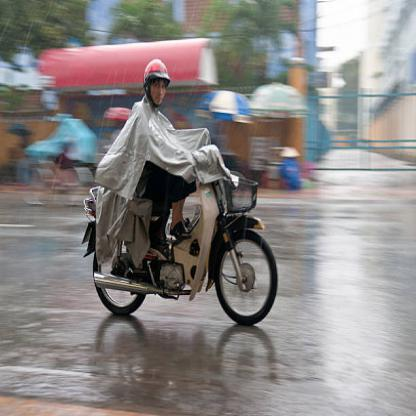Motorcycle: (79, 146, 280, 331)
